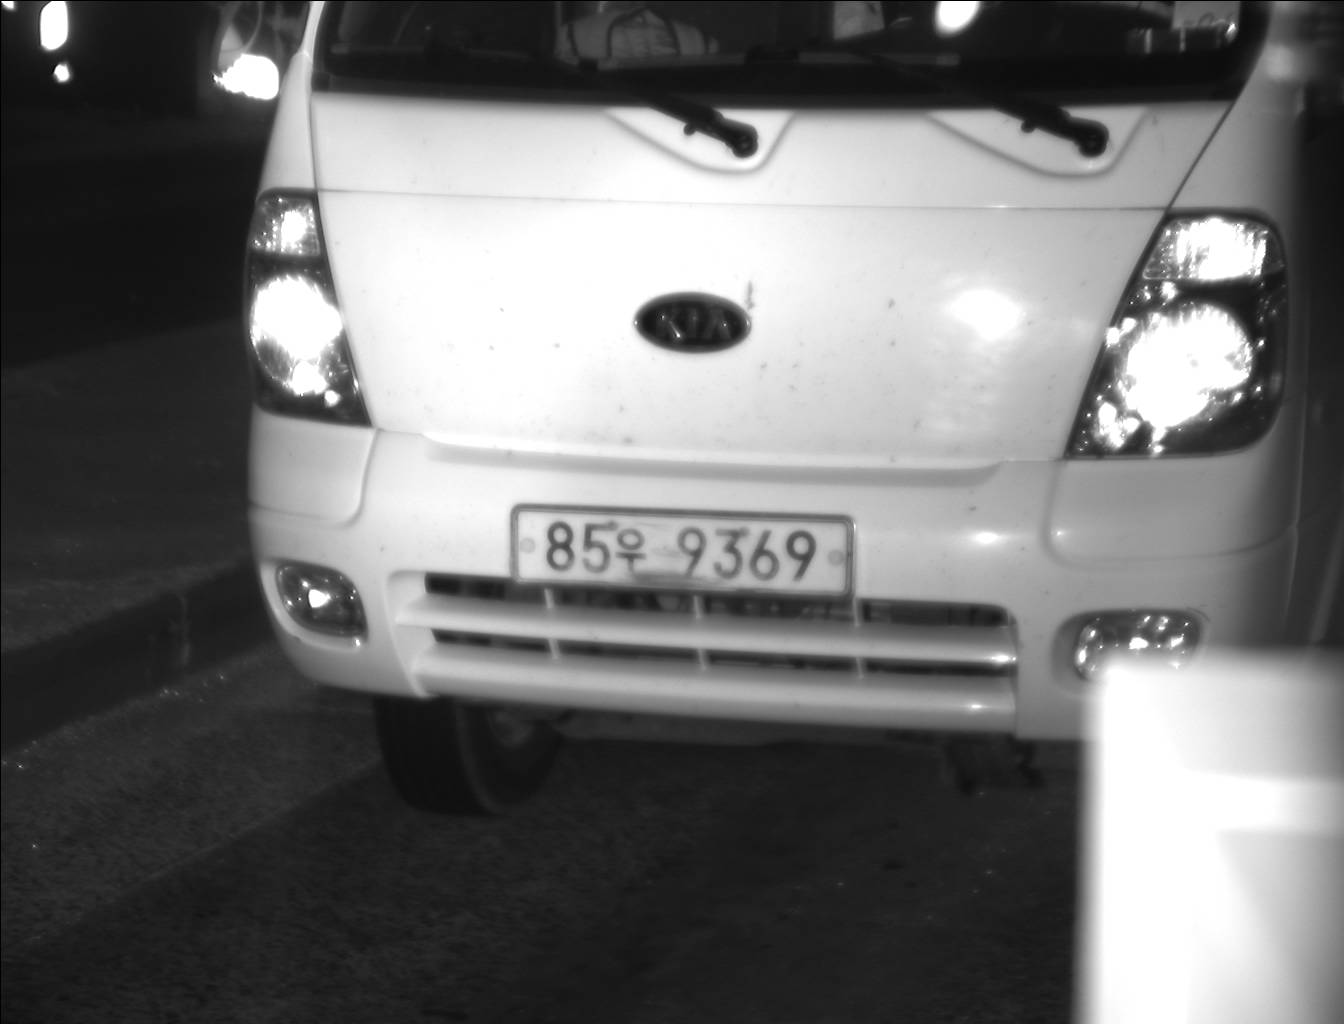car: (233, 5, 1344, 822)
plate: (507, 503, 858, 605)
